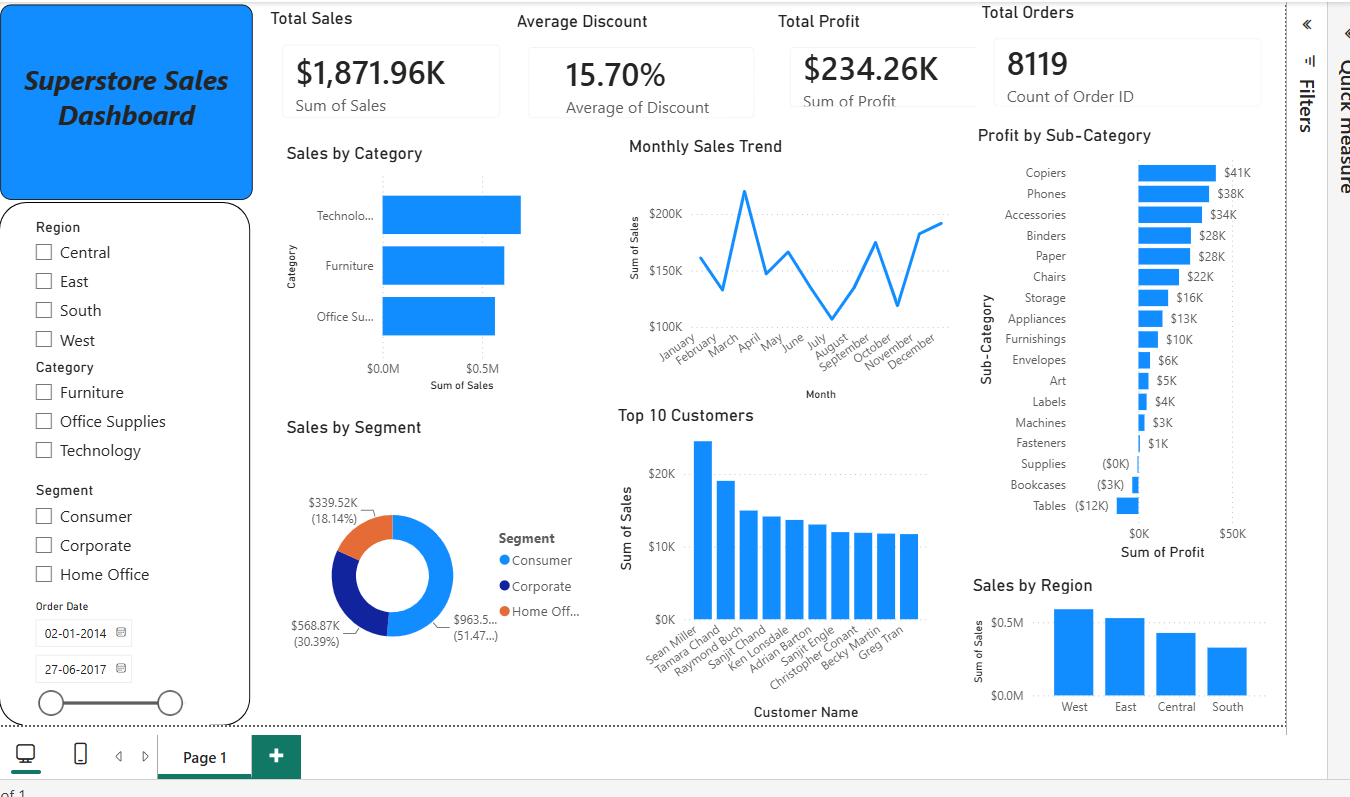

Layout of this report page (visuals, bound fields, positions):
{"tool":"powerbi","page":{"name":"Page 1","canvas":[1280,720],"ordinal":0},"visuals":[{"type":"cardVisual","title":"Total Profit","fields":{"Data":["Sum(Sample - Superstore.Profit)"]},"box":[770,8.7,233.9,113.2],"z":0},{"type":"cardVisual","title":"Average Discount","fields":{"Data":["Avg(Sample - Superstore.Discount)"]},"box":[510,8.7,260,124.4],"z":2000},{"type":"cardVisual","title":"Total Sales","fields":{"Data":["Sum(Sample - Superstore.Sales)"]},"box":[265,6.2,251.3,126.9],"z":3000},{"type":"clusteredBarChart","title":"Sales by Category","fields":{"Category":["Sample - Superstore.Category"],"Y":["Sum(Sample - Superstore.Sales)"]},"box":[281.1,140.6,281.1,252.5],"z":4000},{"type":"clusteredBarChart","title":"Profit by Sub-Category","fields":{"Category":["Sample - Superstore.Sub-Category"],"Y":["Sum(Sample - Superstore.Profit)"]},"box":[969,121.9,296.1,439.1],"z":5000},{"type":"lineChart","title":"Monthly Sales Trend","fields":{"Y":["Sum(Sample - Superstore.Sales)"],"Category":["Sample - Superstore.Order Date.Variation.Date Hierarchy.Month","Sample - Superstore.Order Date.Variation.Date Hierarchy.Day"]},"box":[622.2,132.7,329.6,268.3],"z":6000},{"type":"clusteredColumnChart","title":"Sales by Region","fields":{"Category":["Sample - Superstore.Region"],"Y":["Sum(Sample - Superstore.Sales)"]},"box":[964.1,569.7,304.8,150.5],"z":7000},{"type":"donutChart","title":"Sales by Segment","fields":{"Category":["Sample - Superstore.Segment"],"Y":["Sum(Sample - Superstore.Sales)"]},"box":[281.1,413,312.2,297.3],"z":8000},{"type":"columnChart","title":"Top 10 Customers","fields":{"Category":["Sample - Superstore.Customer Name"],"Y":["Sum(Sample - Superstore.Sales)"]},"box":[610.8,400.6,318.5,319.7],"z":9000},{"type":"shape","box":[0,199,250,521.2],"z":13000},{"type":"slicer","fields":{"Values":["Sample - Superstore.Region"]},"box":[23.6,210.2,154.3,149.3],"z":13187},{"type":"slicer","fields":{"Values":["Sample - Superstore.Category"]},"box":[23.6,349.6,185.3,129.4],"z":13375},{"type":"slicer","fields":{"Values":["Sample - Superstore.Segment"]},"box":[23.6,472.7,185.3,119.4],"z":13750},{"type":"slicer","fields":{"Values":["Sample - Superstore.Order Date"]},"box":[23.6,589.6,185.3,130.6],"z":14500},{"type":"textbox","box":[1,3,251,194],"z":14501},{"type":"cardVisual","title":"Total Orders","fields":{"Data":["CountNonNull(Sample - Superstore.Order ID)"]},"box":[972.8,0,301,121.9],"z":14502}]}

Visuals, with their boxes on the page's 1280x720 design canvas (x1, y1, x2, y2). These are canvas units, not pixel positions in the 1350x797 screenshot, which may show the page scaled, cropped or inside an application window:
"Total Profit" cardVisual: <bbox>770, 9, 1004, 122</bbox>
"Average Discount" cardVisual: <bbox>510, 9, 770, 133</bbox>
"Total Sales" cardVisual: <bbox>265, 6, 516, 133</bbox>
"Sales by Category" clusteredBarChart: <bbox>281, 141, 562, 393</bbox>
"Profit by Sub-Category" clusteredBarChart: <bbox>969, 122, 1265, 561</bbox>
"Monthly Sales Trend" lineChart: <bbox>622, 133, 952, 401</bbox>
"Sales by Region" clusteredColumnChart: <bbox>964, 570, 1269, 720</bbox>
"Sales by Segment" donutChart: <bbox>281, 413, 593, 710</bbox>
"Top 10 Customers" columnChart: <bbox>611, 401, 929, 720</bbox>
shape: <bbox>0, 199, 250, 720</bbox>
slicer - Sample - Superstore.Region: <bbox>24, 210, 178, 360</bbox>
slicer - Sample - Superstore.Category: <bbox>24, 350, 209, 479</bbox>
slicer - Sample - Superstore.Segment: <bbox>24, 473, 209, 592</bbox>
slicer - Sample - Superstore.Order Date: <bbox>24, 590, 209, 720</bbox>
textbox: <bbox>1, 3, 252, 197</bbox>
"Total Orders" cardVisual: <bbox>973, 0, 1274, 122</bbox>
